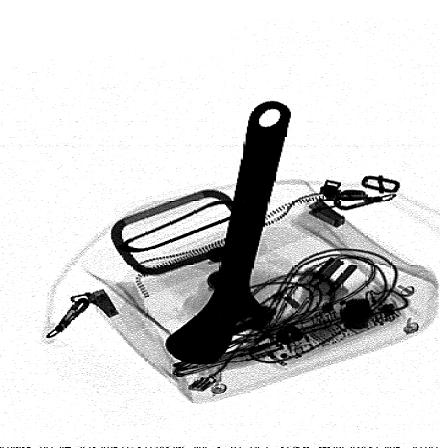Wrench: (161, 97, 295, 367)
